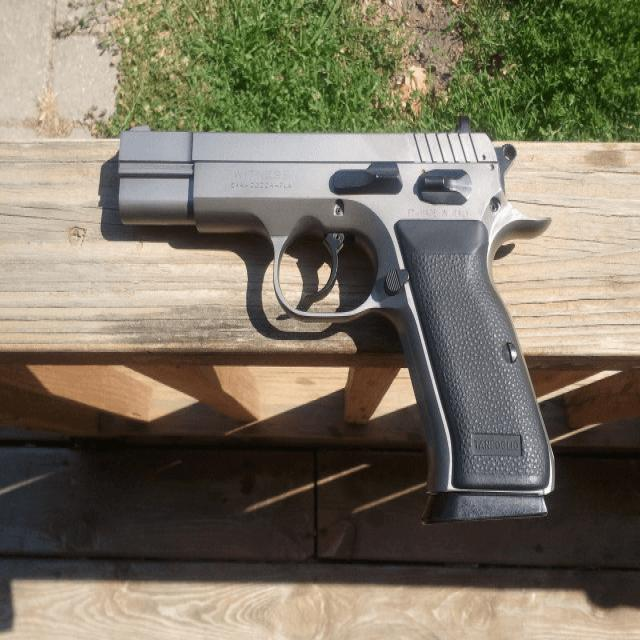HandGun: (101, 120, 555, 524)
